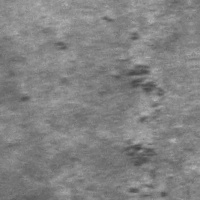rolled-in_scale: (108, 55, 167, 125), (122, 135, 171, 197)
